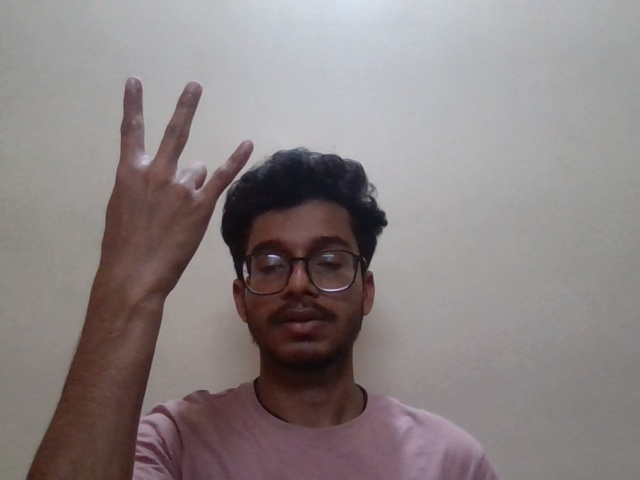why: (103, 69, 265, 269)
